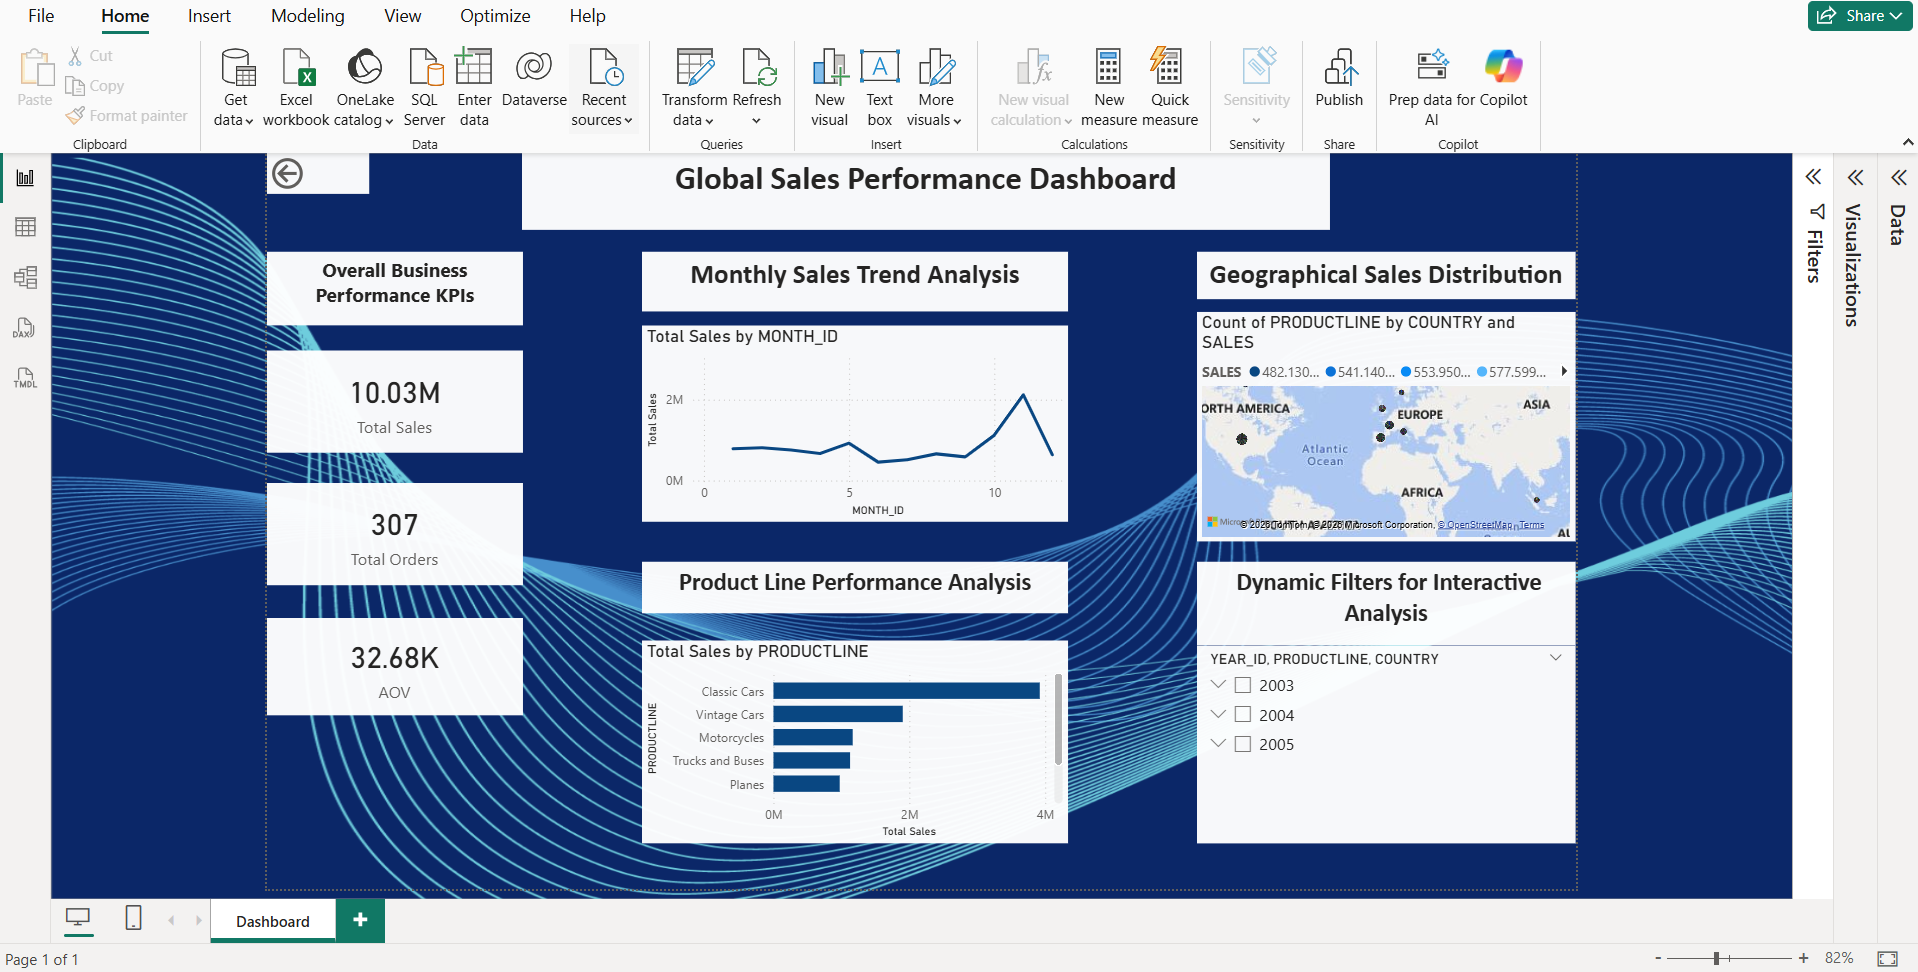

This screenshot's page, from the dashboard's own definition file:
{"tool":"powerbi","page":{"name":"Dashboard","canvas":[1280,720],"ordinal":0},"visuals":[{"type":"lineChart","fields":{"Category":["fact_sales_orders.MONTH_ID"],"Y":["fact_sales_orders.Total Sales"]},"box":[366.7,168.3,416.7,191.7],"z":0},{"type":"barChart","fields":{"Category":["fact_sales_orders.PRODUCTLINE"],"Y":["fact_sales_orders.Total Sales"]},"box":[366.7,476.7,416.7,198.3],"z":1000},{"type":"actionButton","box":[0,0,100,40],"z":2000},{"type":"card","fields":{"Values":["fact_sales_orders.Total Sales"]},"box":[0,193.3,250,100],"z":3000},{"type":"card","fields":{"Values":["fact_sales_orders.Total Orders"]},"box":[0,323.3,250,100],"z":4000},{"type":"card","fields":{"Values":["fact_sales_orders.AOV"]},"box":[0,455,250,95],"z":5000},{"type":"slicer","fields":{"Values":["fact_sales_orders.YEAR_ID","fact_sales_orders.PRODUCTLINE","fact_sales_orders.COUNTRY"]},"box":[910,481.7,370,193.3],"z":6000},{"type":"textbox","box":[250,0,790,75],"z":7000},{"type":"map","fields":{"Category":["fact_sales_orders.COUNTRY"],"Series":["fact_sales_orders.SALES"],"Size":["CountNonNull(fact_sales_orders.PRODUCTLINE)"]},"box":[910,155,370,225],"z":8000},{"type":"textbox","box":[0,96.7,250,71.7],"z":9000},{"type":"textbox","box":[366.7,96.7,416.7,58.3],"z":10000},{"type":"textbox","box":[366.7,400,416.7,50],"z":11000},{"type":"textbox","box":[910,96.7,370,46.7],"z":12000},{"type":"textbox","box":[910,400,370,81.7],"z":13000}]}

Visuals, with their boxes on the page's 1280x720 design canvas (x1, y1, x2, y2). These are canvas units, not pixel positions in the 1918x972 screenshot, which may show the page scaled, cropped or inside an application window:
lineChart - fact_sales_orders.MONTH_ID x fact_sales_orders.Total Sales: bbox(367, 168, 783, 360)
barChart - fact_sales_orders.PRODUCTLINE x fact_sales_orders.Total Sales: bbox(367, 477, 783, 675)
actionButton: bbox(0, 0, 100, 40)
card - fact_sales_orders.Total Sales: bbox(0, 193, 250, 293)
card - fact_sales_orders.Total Orders: bbox(0, 323, 250, 423)
card - fact_sales_orders.AOV: bbox(0, 455, 250, 550)
slicer - fact_sales_orders.YEAR_ID x fact_sales_orders.PRODUCTLINE: bbox(910, 482, 1280, 675)
textbox: bbox(250, 0, 1040, 75)
map - fact_sales_orders.COUNTRY x fact_sales_orders.SALES: bbox(910, 155, 1280, 380)
textbox: bbox(0, 97, 250, 168)
textbox: bbox(367, 97, 783, 155)
textbox: bbox(367, 400, 783, 450)
textbox: bbox(910, 97, 1280, 143)
textbox: bbox(910, 400, 1280, 482)
